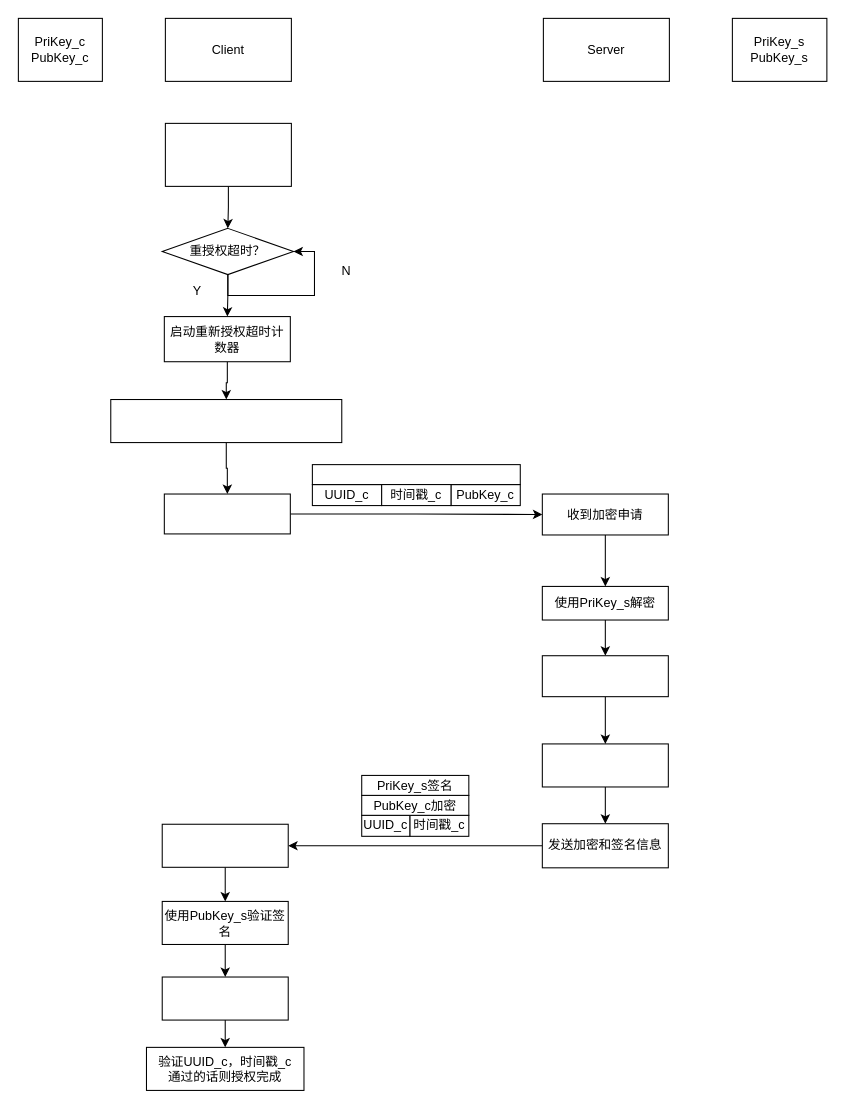
This 845x1109 diagram has some shape labels left out. The shapes that lost their labels are listed below. From the top down, each one's centre as x and y in pixels, then its label:
At (x=227, y=154): "clinet预先获得PubKey_s，存储在client".
At (x=226, y=420): "使用PubKey_s加密如下信息 UUID_c+时间戳_c+PubKey_c".
At (x=415, y=474): "PubKey_s加密".
At (x=226, y=513): "发送加密后信息".
At (x=604, y=676): "使用PubKey_c加密 UUID_c，时间戳_c".
At (x=604, y=765): "使用PriKey_s签名UUID_c，时间戳_c".
At (x=224, y=845): "收到加密和签名信息".
At (x=224, y=998): "使用PriKey_c解密UUID_c，时间戳_c".
